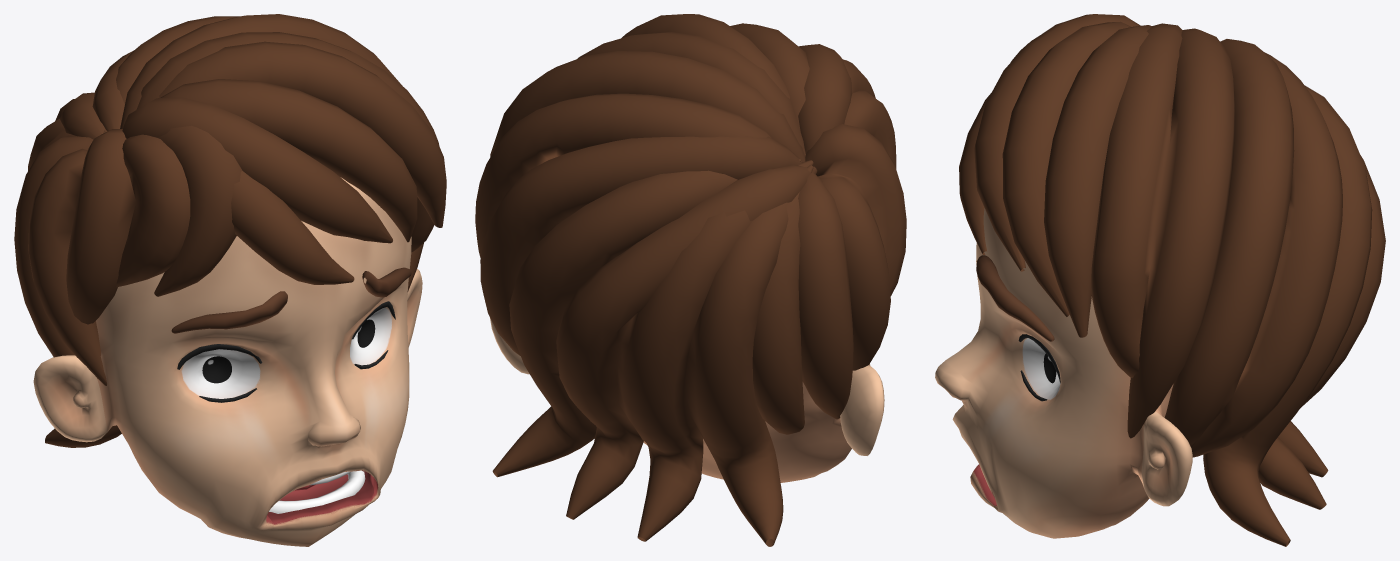
File: Kid.glb
3 views of the same model, side by side, from view 1: azimuth 30°, elevation 25°; view 2: azimuth 150°, elevation 25°; view 3: azimuth 270°, elevation 25° (orthographic). The views are drawn at different scales.
Visible parts, largest first — view 1: BézierCurve.010, Cube.001, Cube.003; view 2: BézierCurve.010, Cube.001; view 3: BézierCurve.010, Cube.001.
Boxes of the visible parts, box(x1,y1,x2,y2) form: BézierCurve.010: box(14, 14, 446, 447); Cube.001: box(33, 177, 422, 546); Cube.003: box(177, 301, 395, 369); BézierCurve.010: box(475, 14, 906, 546); Cube.001: box(490, 318, 884, 482); BézierCurve.010: box(959, 14, 1385, 546); Cube.001: box(935, 208, 1192, 538).
Bounding box in the file's own units: 0.479 × 0.5499 × 0.4586.
3 materials, 2 textured.
